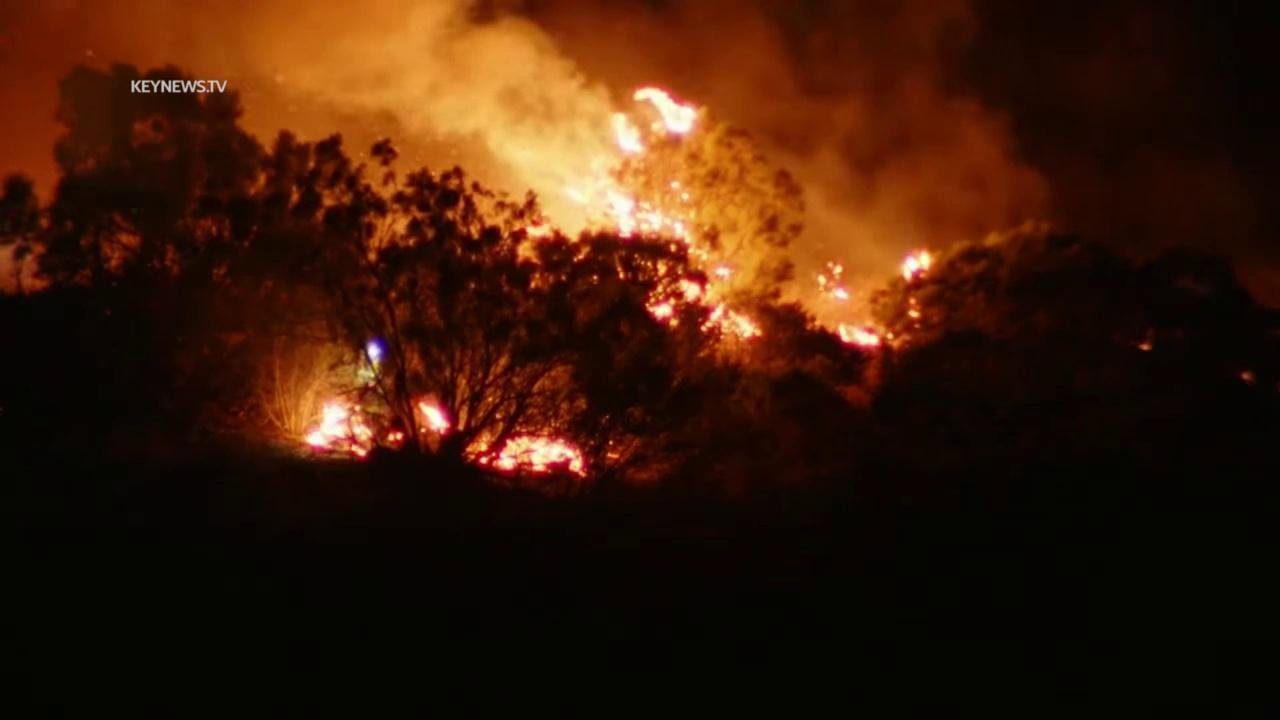fire: (586, 83, 764, 339), (475, 434, 588, 483), (300, 399, 377, 459), (899, 247, 932, 330), (416, 398, 452, 437), (816, 260, 850, 301), (836, 322, 882, 346), (386, 429, 406, 445), (604, 450, 624, 463), (1136, 340, 1153, 350)
smoke: (0, 0, 1063, 348)
